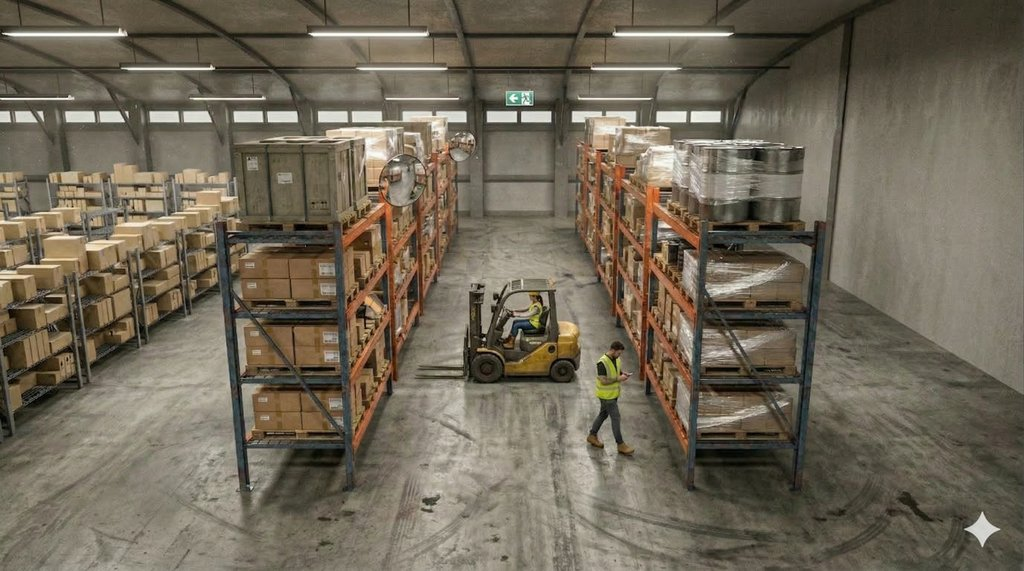forklift: (462, 262, 612, 386)
person: (584, 327, 641, 466), (498, 284, 552, 362)
safety_vest: (594, 361, 627, 410), (519, 302, 547, 330)
